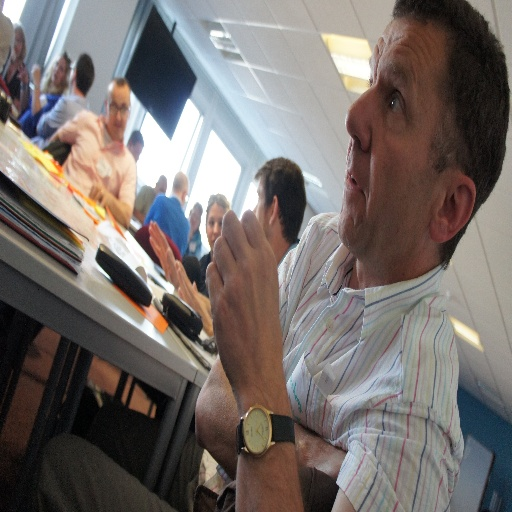hand: (195, 189, 282, 426), (176, 260, 210, 330), (147, 219, 178, 280), (86, 182, 109, 207), (30, 62, 40, 82)
